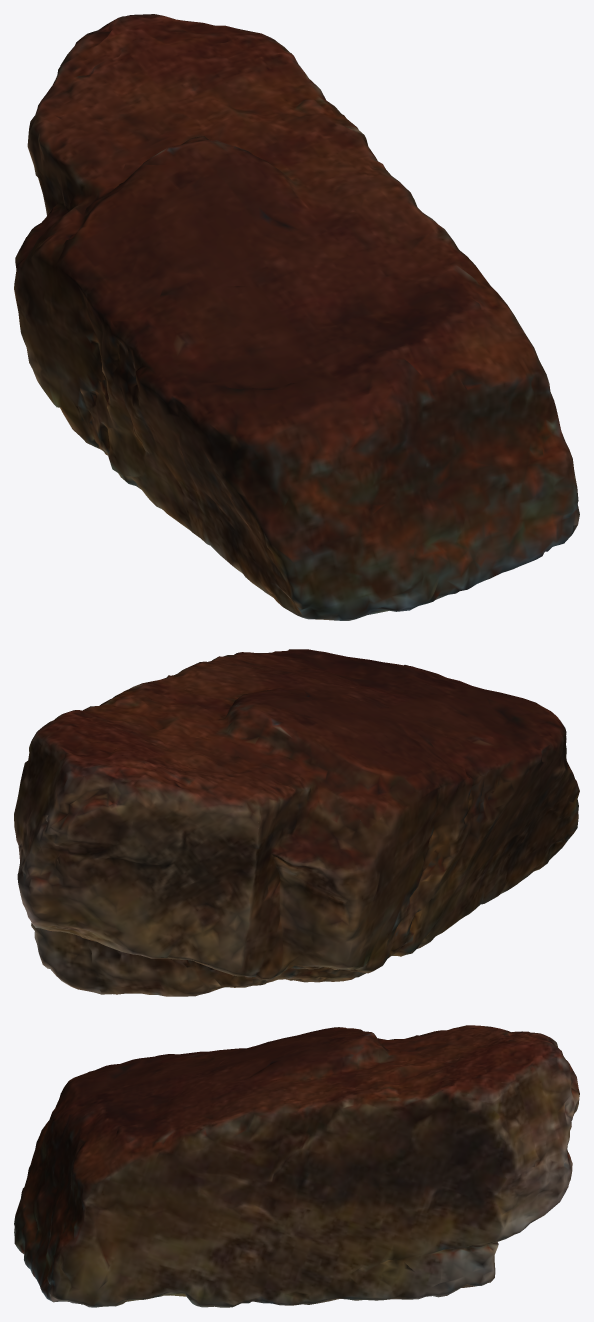
The model's file is rock.glb.
3 views of the same model, one above another, from view 1: azimuth 30°, elevation 25°; view 2: azimuth 150°, elevation 25°; view 3: azimuth 270°, elevation 25° (orthographic). The views are drawn at different scales.
Visible parts, largest first — view 1: rock_body; view 2: rock_body; view 3: rock_body.
Part boxes in pixels (bbox=[...]): rock_body: bbox=[14, 14, 579, 620]; rock_body: bbox=[14, 649, 579, 996]; rock_body: bbox=[14, 1025, 579, 1307].
Size of the model in its own units: 0.1266 by 0.1077 by 0.24.
Materials: 1 (1 with a texture image).
